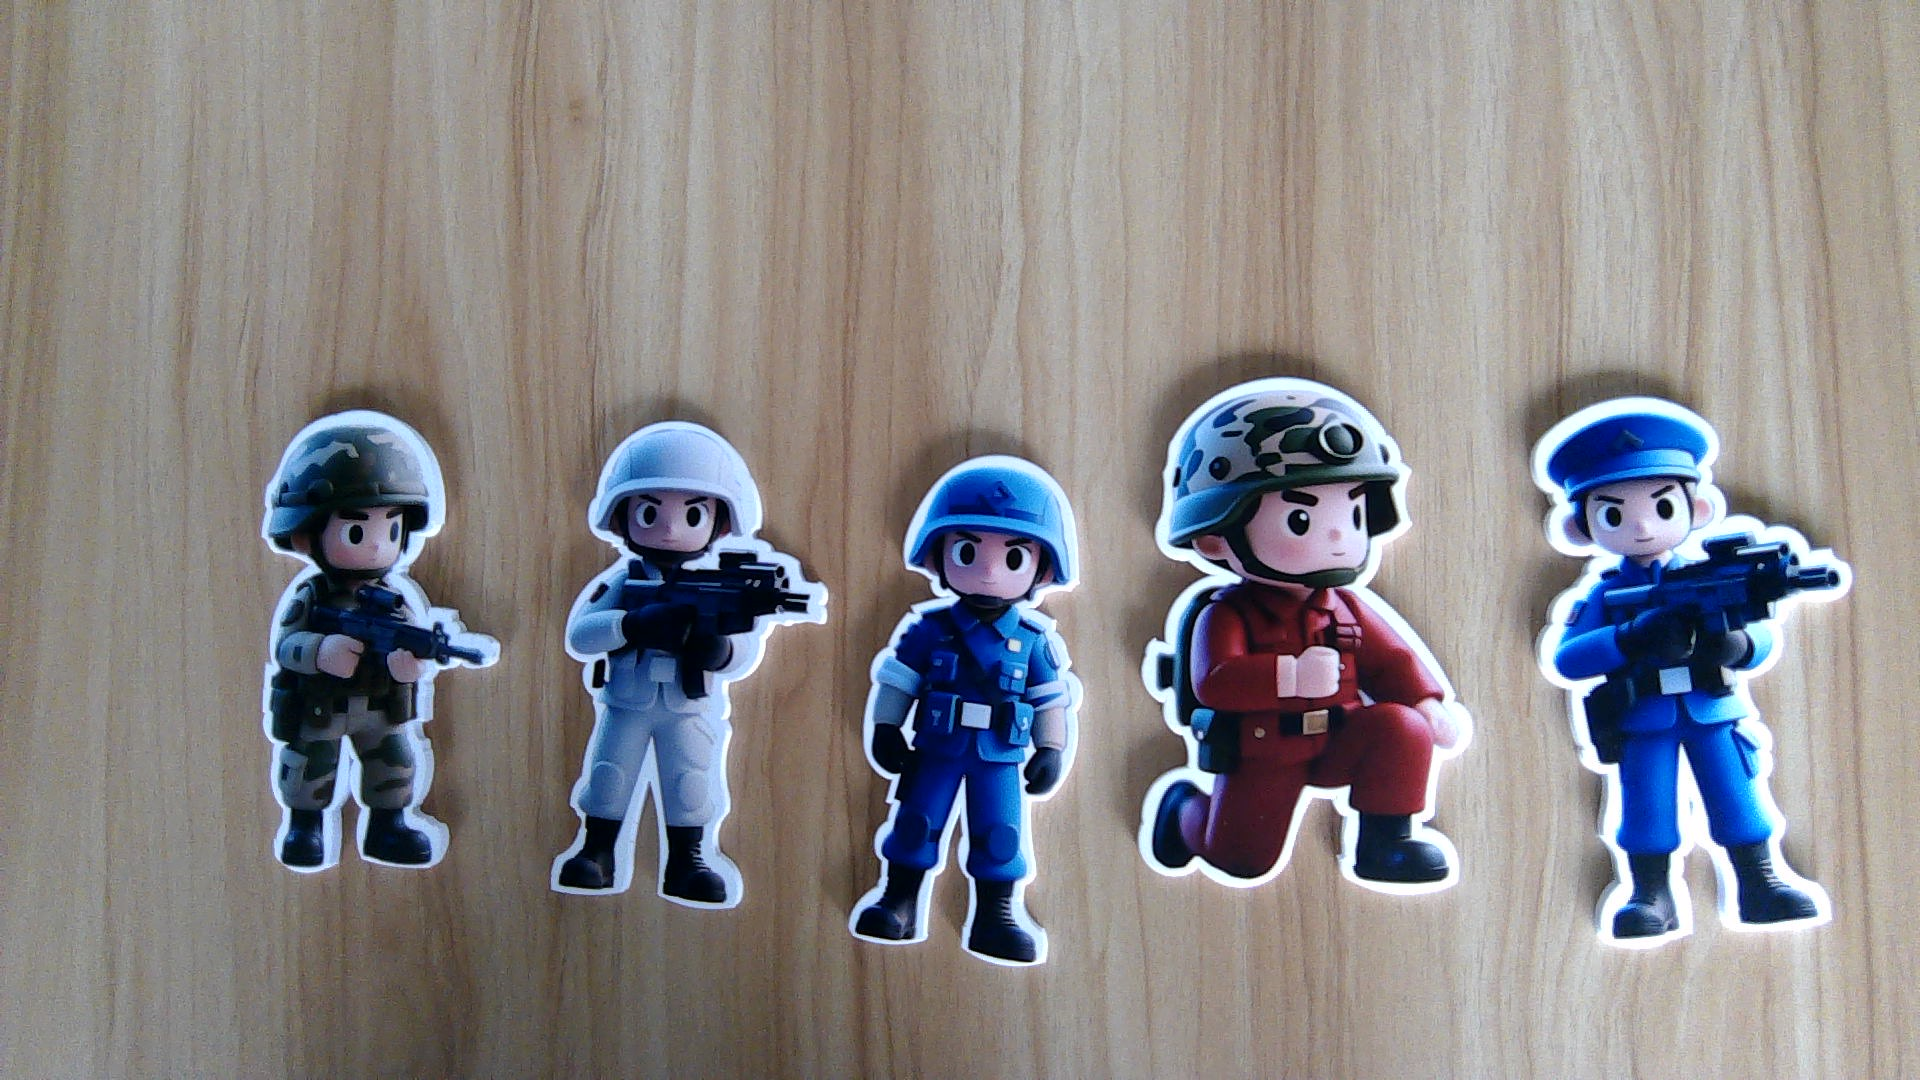人质: (545, 558, 796, 909)
友军: (255, 567, 497, 885)
敌人1: (1135, 582, 1478, 894)
敌人2: (1532, 555, 1862, 948), (848, 603, 1076, 969)
